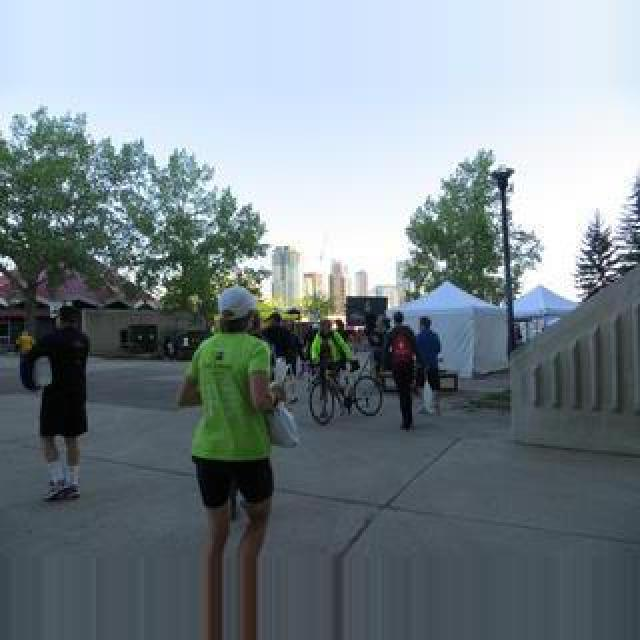MC-Bike: (174, 284, 288, 582), (26, 306, 90, 504), (386, 324, 420, 432), (414, 318, 442, 416), (262, 312, 298, 386)
Person: (308, 357, 382, 423)
